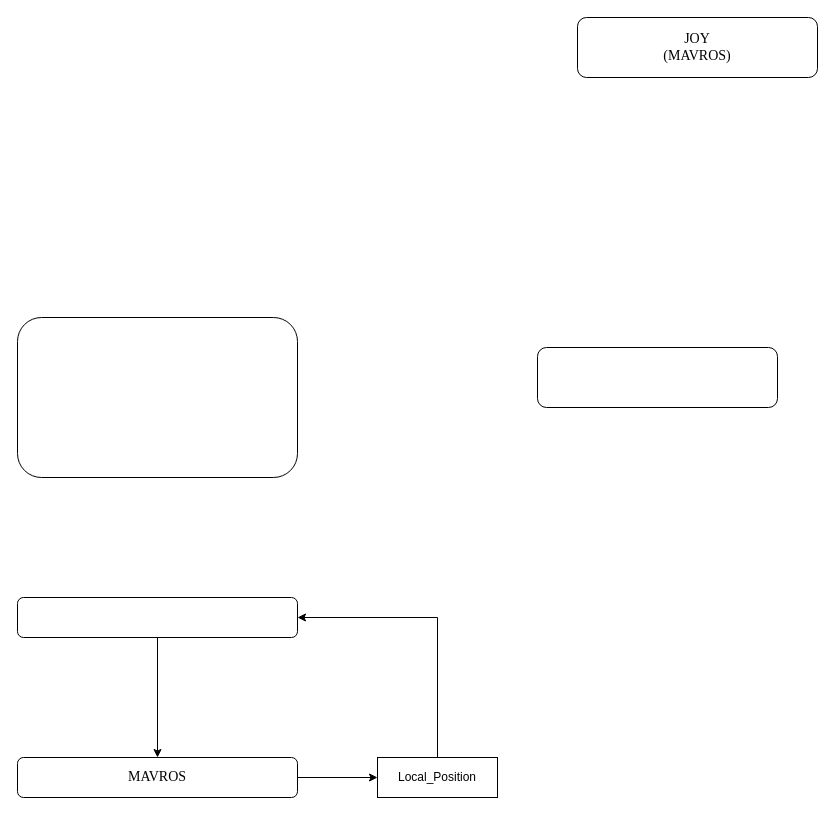
Some shapes in this 835 by 815 pixel diagram are drawn without their labels. The centre of each missing label's shape, as x and y in pixels:
"EXTERNAL_CONTROLLER" belongs at point 157,397.
"EXTERNAL_REGULATOR" belongs at point 157,617.
